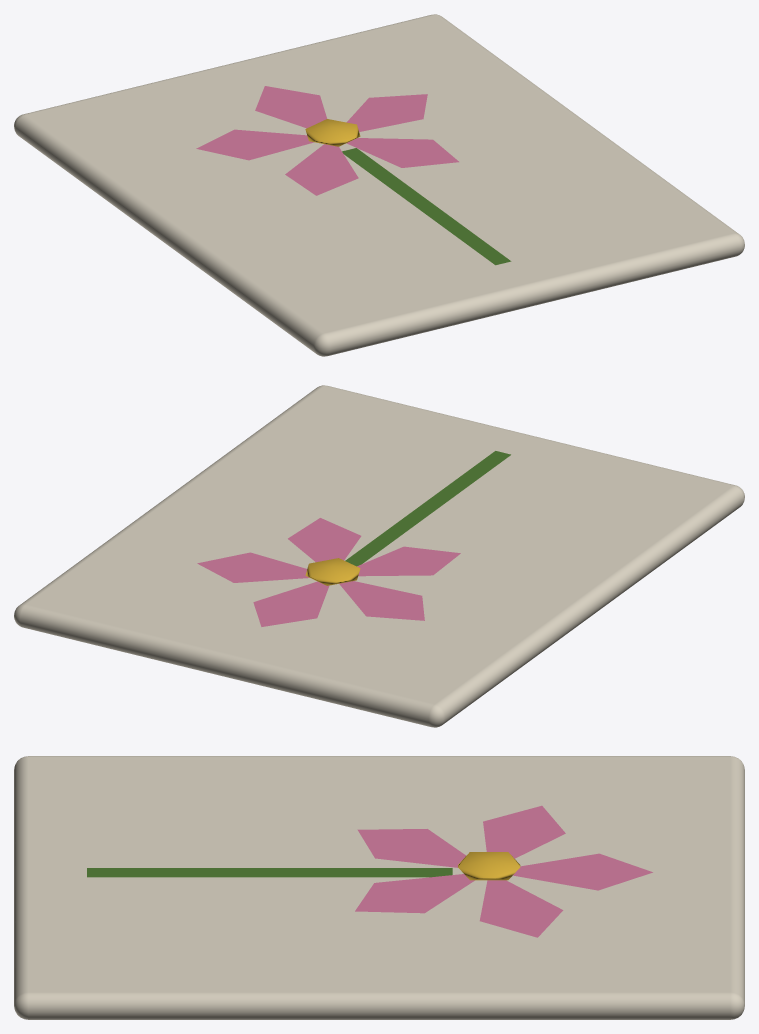
Rendered from item_ic_pressedflower.glb.
3 renders of one model, top to bottom at view 1: azimuth 30°, elevation 25°; view 2: azimuth 150°, elevation 25°; view 3: azimuth 270°, elevation 25°, orthographic. The views are drawn at different scales.
Parts seen in each view (by area): view 1: item_ic_pressedflower_main; view 2: item_ic_pressedflower_main; view 3: item_ic_pressedflower_main.
Boxes of the visible parts, box(x1,y1,x2,y2) form: item_ic_pressedflower_main: box(14, 14, 744, 356); item_ic_pressedflower_main: box(14, 385, 744, 727); item_ic_pressedflower_main: box(14, 756, 744, 1019).
Bounding box in the file's own units: 0.16 × 0.0126 × 0.2.
